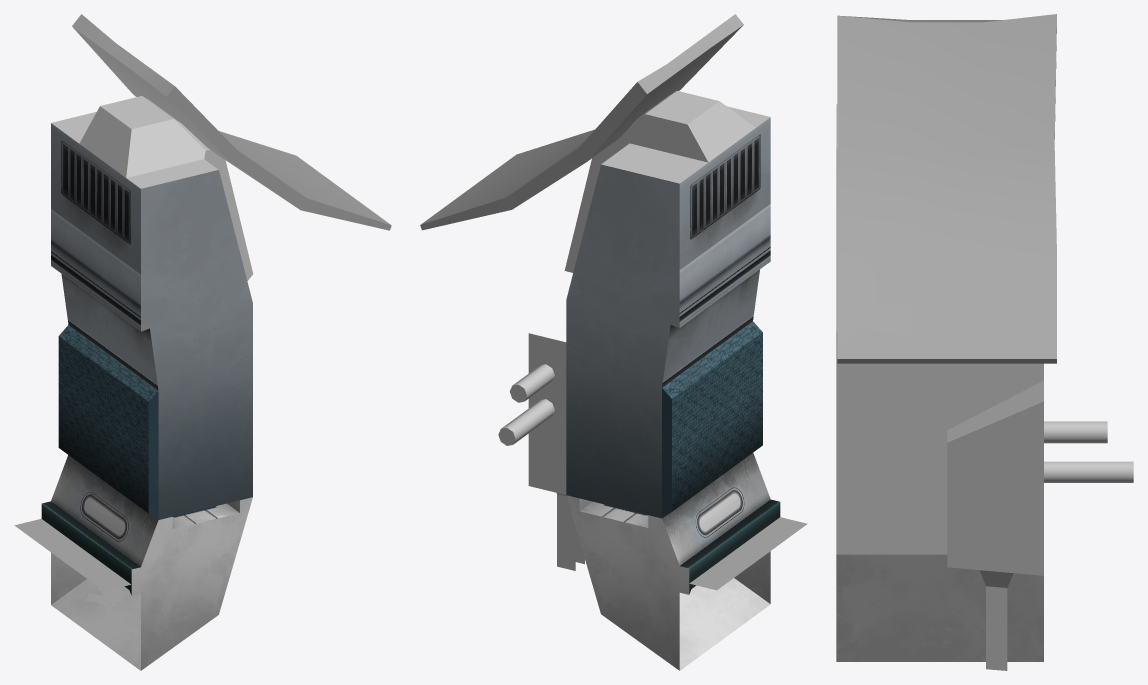
The model's file is SpacialWall_03_ST.fbx.
The picture shows the model from 3 angles, left to right: view 1: azimuth 30°, elevation 25°; view 2: azimuth 150°, elevation 25°; view 3: azimuth 270°, elevation 25°; orthographic projection. The views are drawn at different scales.
Parts seen in each view (by area): view 1: SpacialWall_03; view 2: SpacialWall_03; view 3: SpacialWall_03.
Boxes of the visible parts, box(x1,y1,x2,y2) form: SpacialWall_03: box(14, 14, 391, 670); SpacialWall_03: box(420, 14, 807, 670); SpacialWall_03: box(836, 14, 1133, 670).
Bounding box in the file's own units: 1.85 × 3.54 × 1.43.
